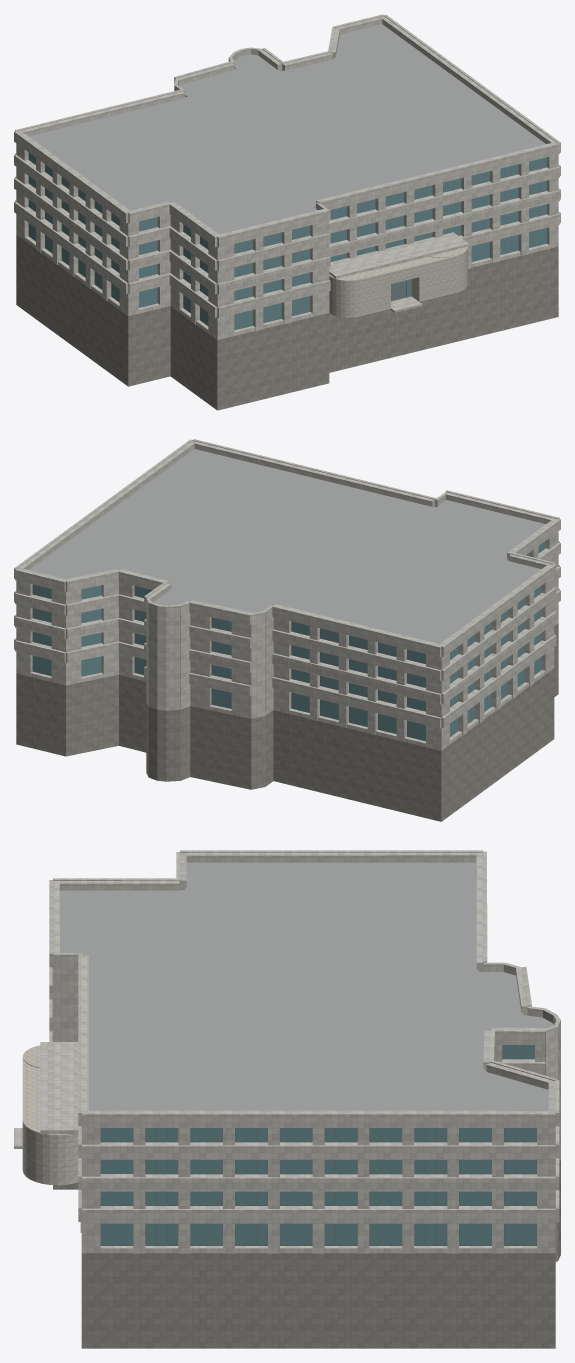
3 renders of one model, top to bottom at view 1: azimuth 30°, elevation 25°; view 2: azimuth 150°, elevation 25°; view 3: azimuth 270°, elevation 25°, orthographic. The views are drawn at different scales.
Visible parts, largest first — view 1: centralLibrary__roof, centralLibrary__stone, centralLibrary__darkstone, centralLibrary__glass, centralLibrary__rustic, centralLibrary__frame, centralLibrary__joint; view 2: centralLibrary__stone, centralLibrary__roof, centralLibrary__darkstone, centralLibrary__glass, centralLibrary__frame; view 3: centralLibrary__roof, centralLibrary__stone, centralLibrary__darkstone, centralLibrary__glass, centralLibrary__frame, centralLibrary__rustic.
Boxes of the visible parts, bbox=[...] form: centralLibrary__roof: bbox=[29, 24, 545, 234]; centralLibrary__stone: bbox=[14, 14, 560, 339]; centralLibrary__darkstone: bbox=[16, 235, 558, 410]; centralLibrary__glass: bbox=[28, 152, 546, 329]; centralLibrary__rustic: bbox=[329, 246, 467, 317]; centralLibrary__frame: bbox=[28, 157, 547, 330]; centralLibrary__joint: bbox=[329, 247, 468, 313]; centralLibrary__stone: bbox=[14, 439, 560, 750]; centralLibrary__roof: bbox=[29, 449, 545, 643]; centralLibrary__darkstone: bbox=[16, 623, 558, 821]; centralLibrary__glass: bbox=[33, 541, 545, 740]; centralLibrary__frame: bbox=[32, 548, 545, 741]; centralLibrary__roof: bbox=[59, 862, 553, 1110]; centralLibrary__stone: bbox=[14, 850, 560, 1253]; centralLibrary__darkstone: bbox=[53, 1160, 560, 1348]; centralLibrary__glass: bbox=[101, 1045, 536, 1245]; centralLibrary__frame: bbox=[100, 1045, 536, 1245]; centralLibrary__rustic: bbox=[22, 1045, 78, 1185].
Size of the model in its own units: 71.14 by 29.6 by 62.23.
9 materials, 3 textured.
